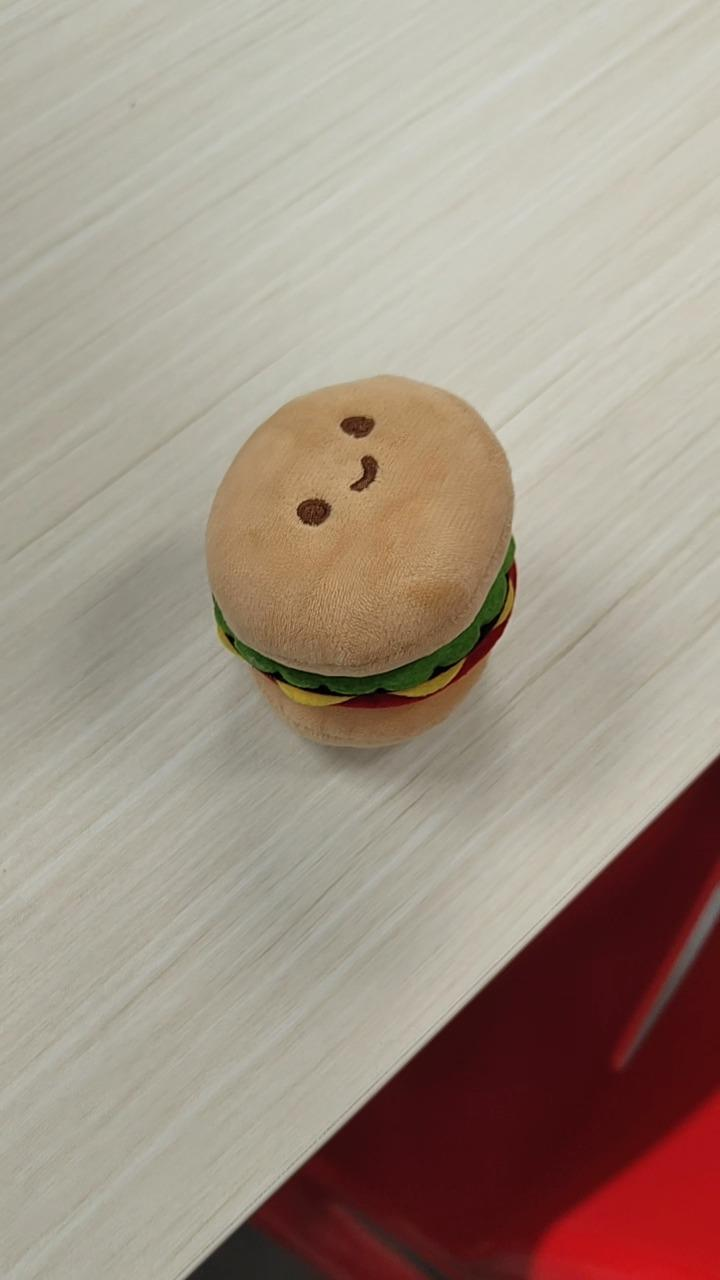hamburger: (203, 372, 518, 750)
